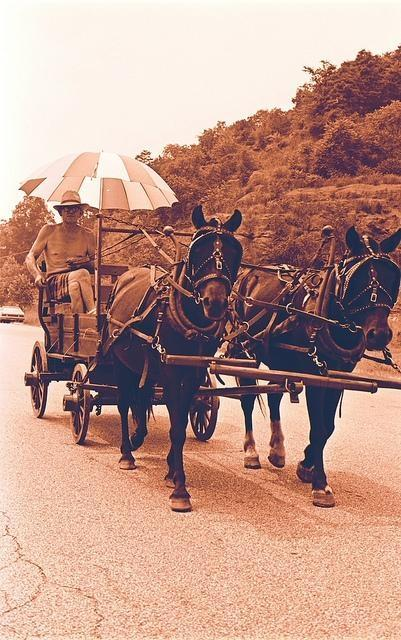car: (0, 306, 26, 324)
